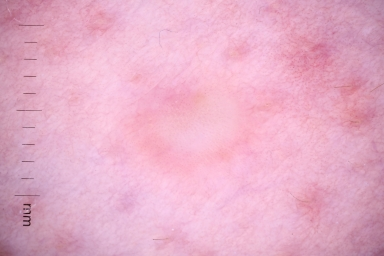nevus: (142, 88, 245, 155)
